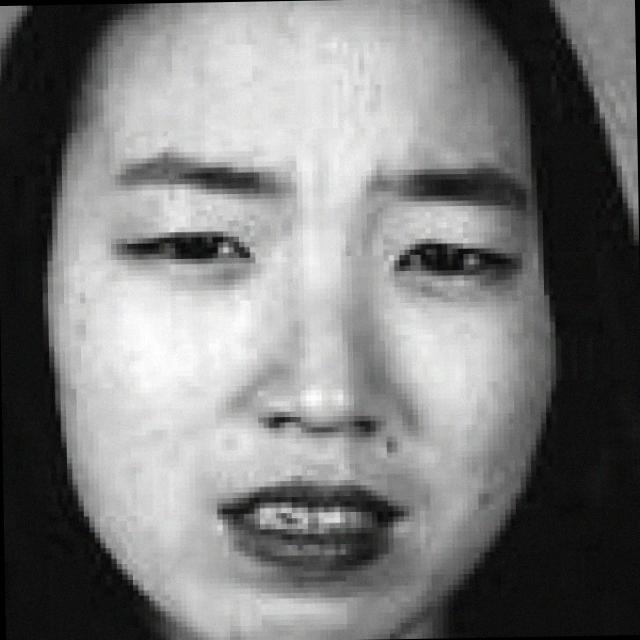disgust: (100, 29, 586, 626)
